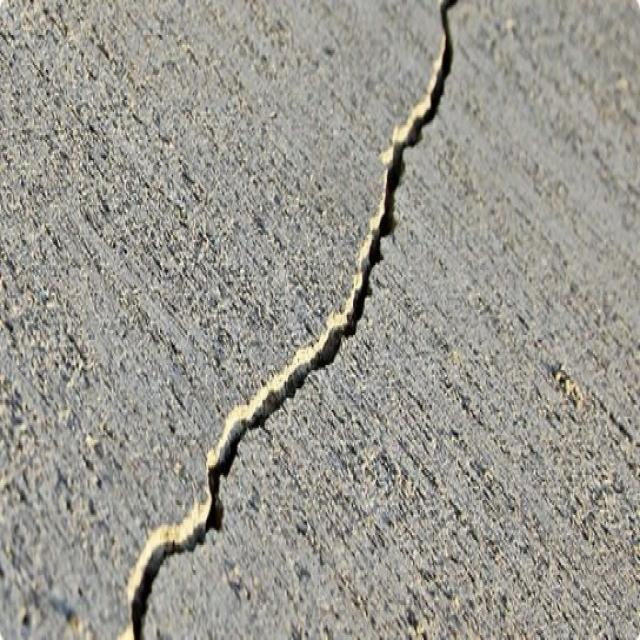Diagonal: (206, 128, 422, 522)
Longitudinal: (124, 519, 212, 640), (416, 0, 469, 129)
